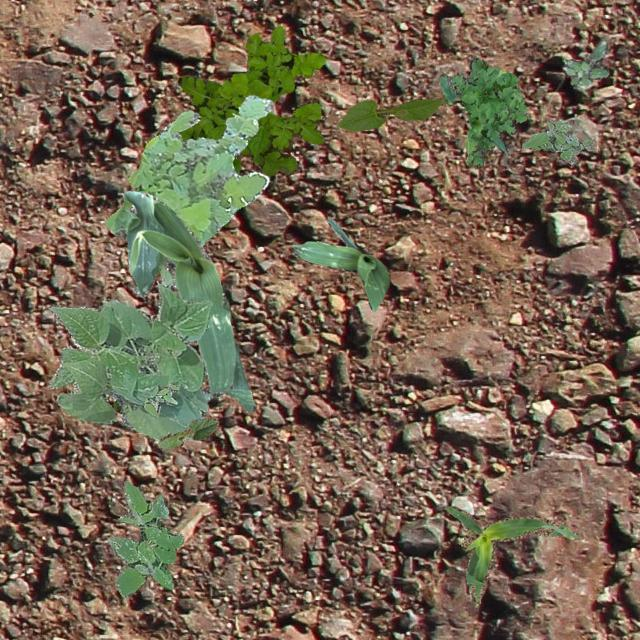crop: (122, 190, 255, 412), (46, 280, 212, 440), (444, 506, 576, 606), (290, 216, 388, 310), (337, 96, 442, 130), (156, 416, 218, 448)
weed: (105, 94, 272, 288), (177, 24, 326, 180), (438, 56, 526, 166), (106, 480, 182, 596), (520, 118, 594, 164), (562, 40, 608, 86), (142, 382, 178, 416), (112, 398, 120, 409)
